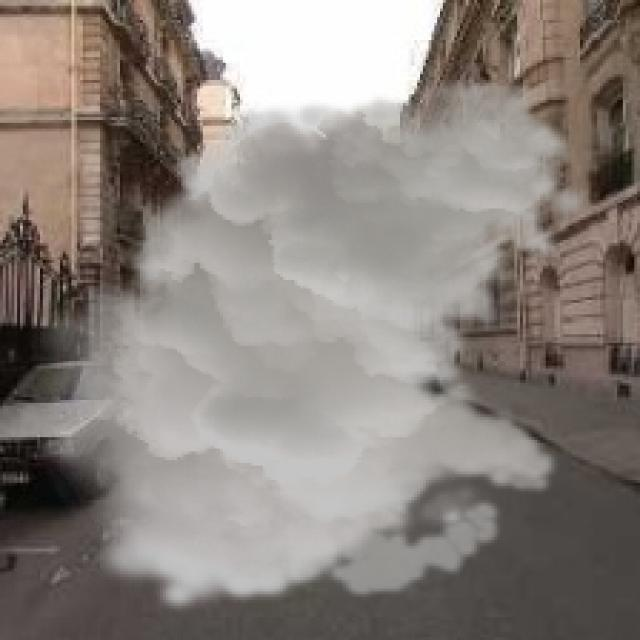smoke: (26, 75, 594, 614)
